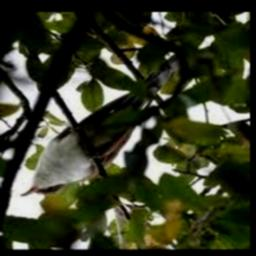Cuckoo: (21, 56, 183, 198)
